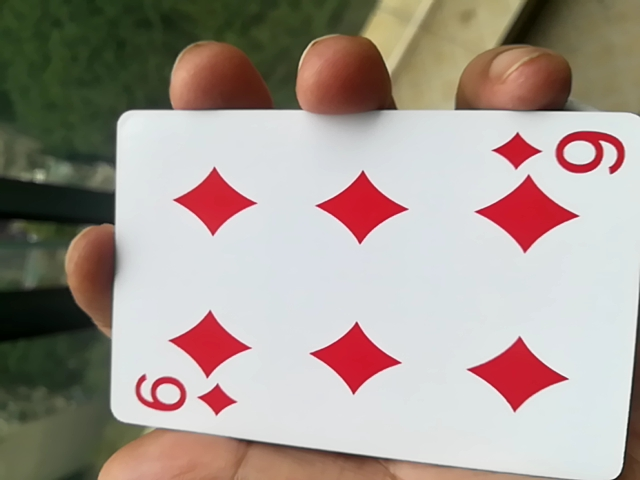fk 6: (91, 124, 636, 480)
